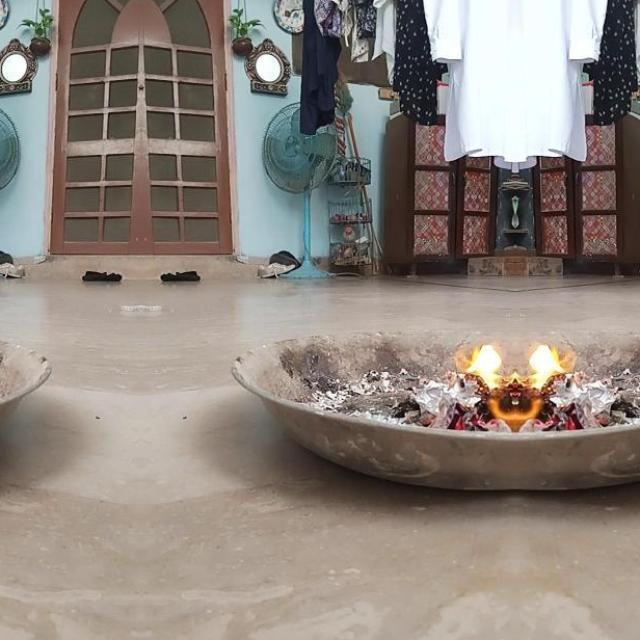smoke: (452, 336, 514, 433), (517, 336, 578, 433)
